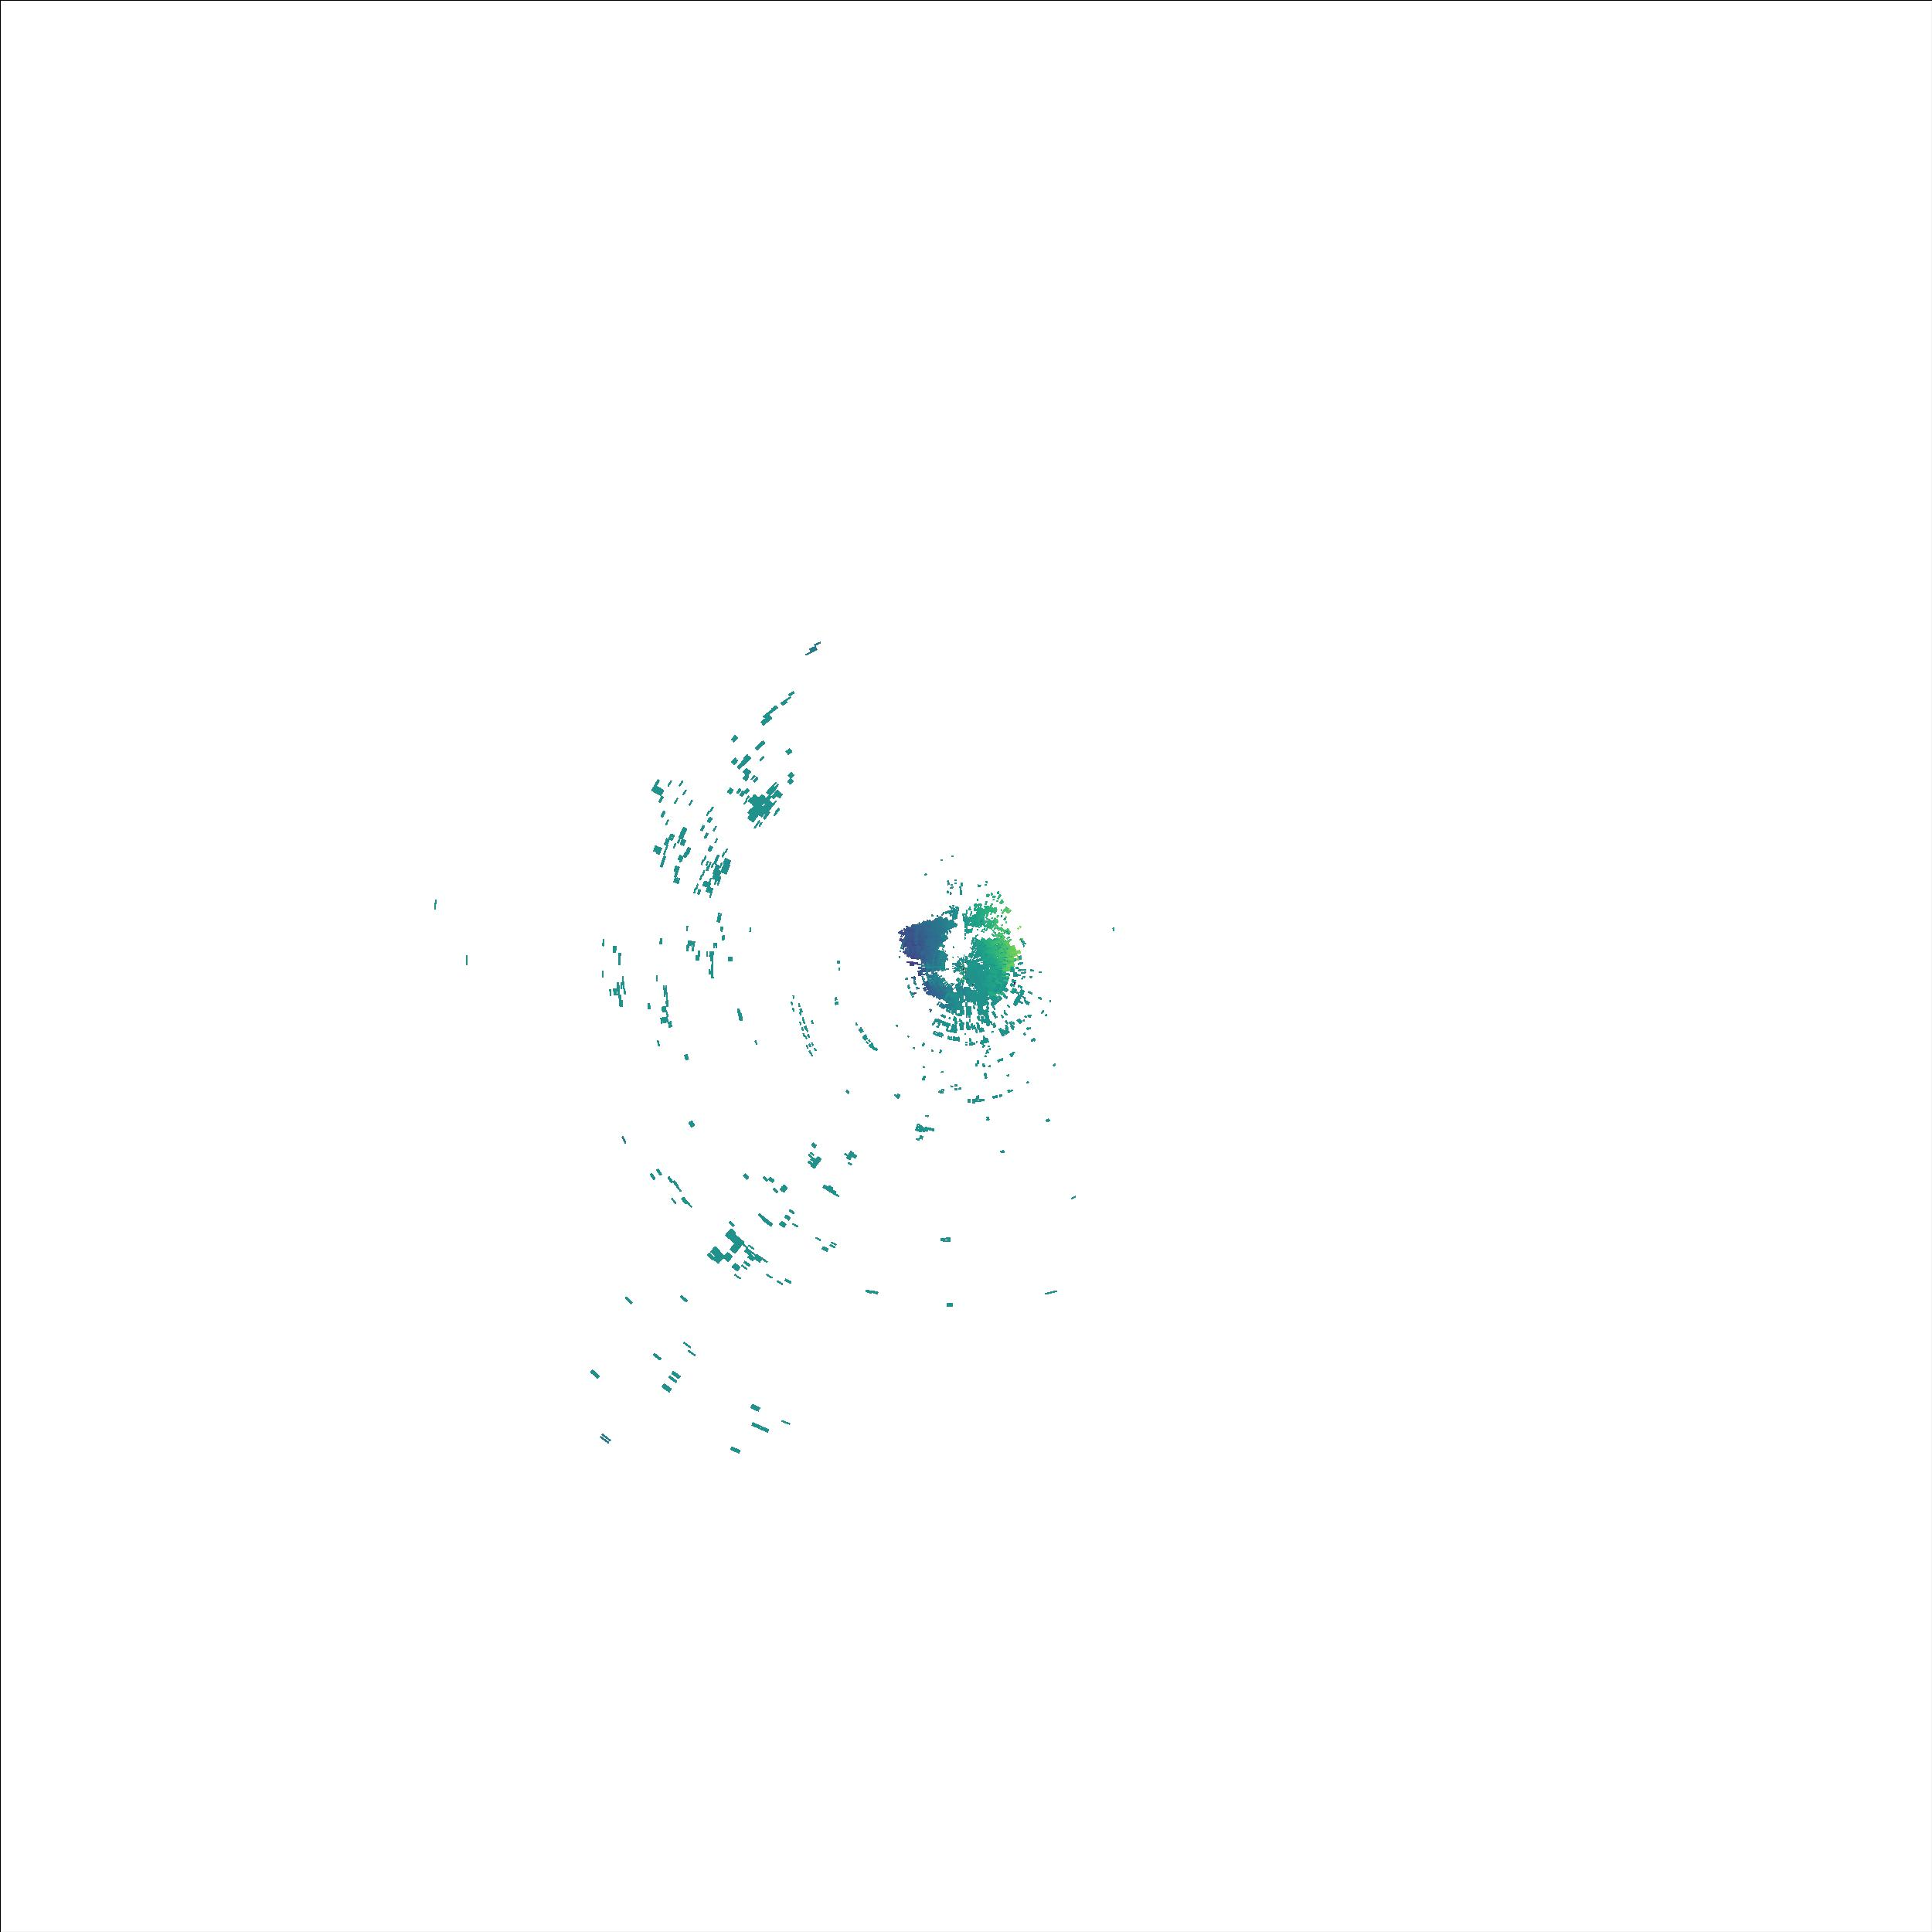fall: (796, 635, 832, 660)
